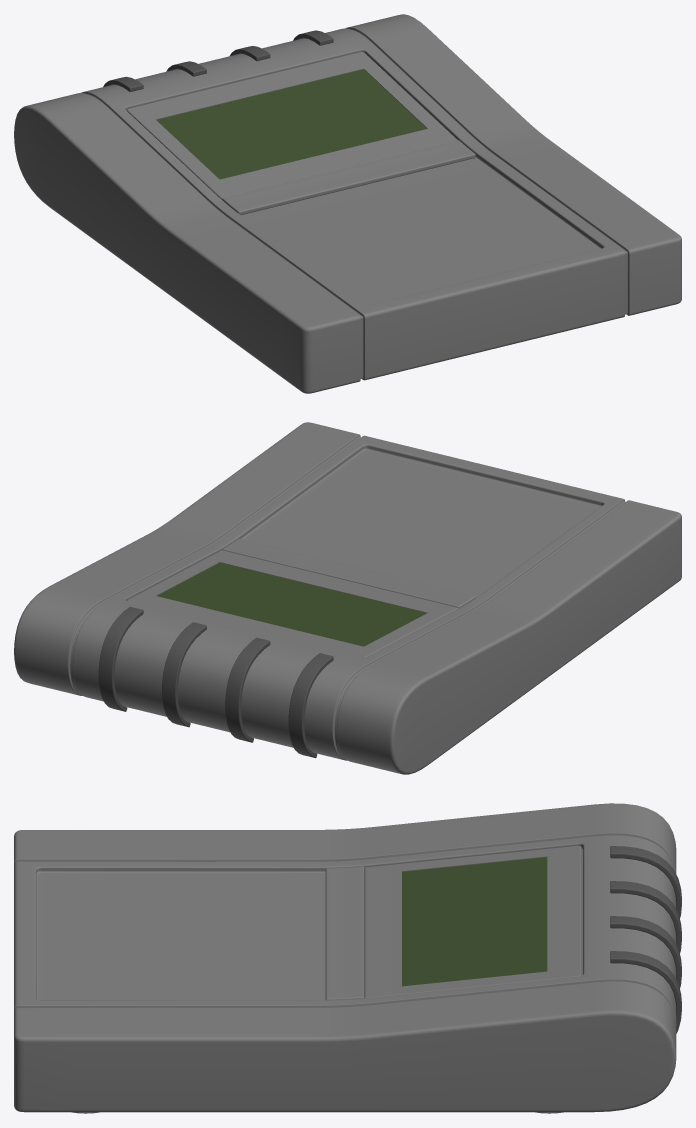
Rendered from CardReader.FBX.
The picture shows the model from 3 angles, top to bottom: view 1: azimuth 30°, elevation 25°; view 2: azimuth 150°, elevation 25°; view 3: azimuth 270°, elevation 25°; orthographic projection. The views are drawn at different scales.
Visible parts, largest first — view 1: archmodels101_099_003, archmodels101_099_005, archmodels101_099_004, archmodels101_099_006; view 2: archmodels101_099_003, archmodels101_099_005, archmodels101_099_004, archmodels101_099_006; view 3: archmodels101_099_003, archmodels101_099_005, archmodels101_099_004, archmodels101_099_006.
Boxes of the visible parts, box(x1,y1,x2,y2) form: archmodels101_099_003: box(14, 14, 681, 393); archmodels101_099_005: box(156, 69, 426, 179); archmodels101_099_004: box(127, 52, 457, 199); archmodels101_099_006: box(103, 30, 333, 91); archmodels101_099_003: box(14, 422, 681, 774); archmodels101_099_005: box(157, 562, 426, 646); archmodels101_099_004: box(127, 550, 458, 657); archmodels101_099_006: box(98, 606, 333, 758); archmodels101_099_003: box(14, 803, 676, 1113); archmodels101_099_005: box(402, 857, 547, 986); archmodels101_099_004: box(364, 845, 581, 998); archmodels101_099_006: box(610, 846, 681, 1033).
Size of the model in its own units: 3.54 by 0.9147 by 4.76.
